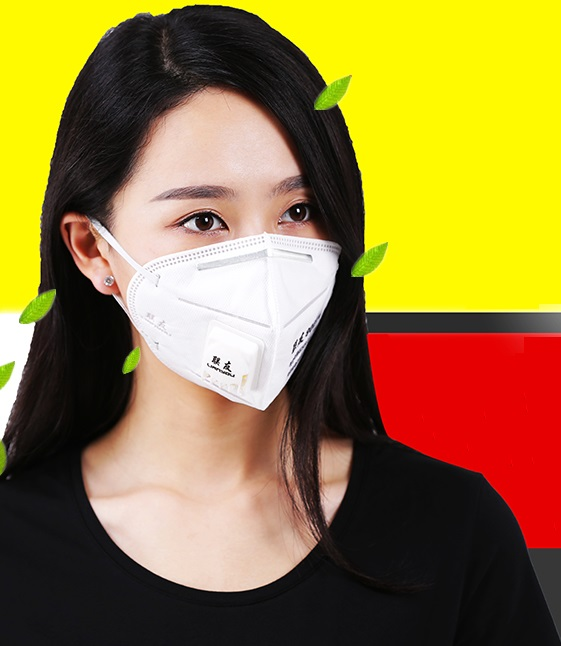face_mask: (122, 95, 333, 397)
